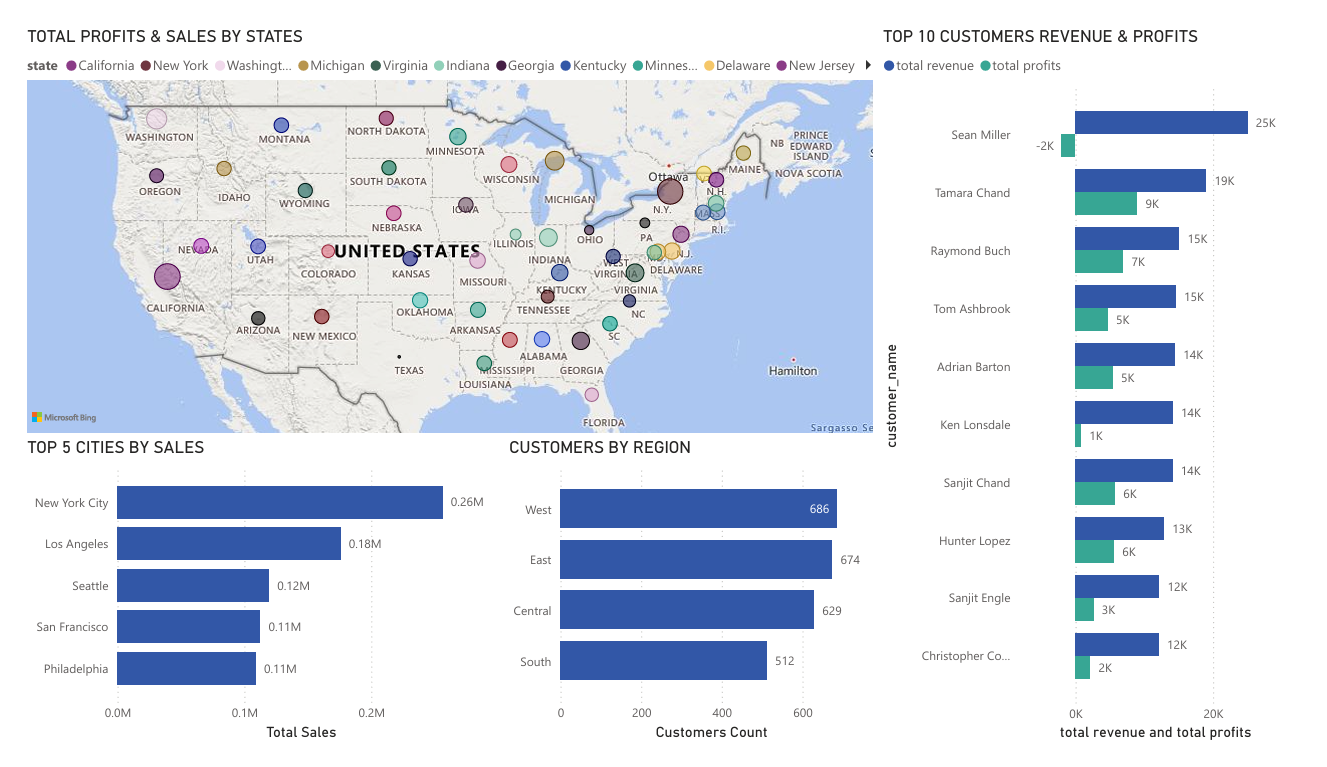

This screenshot's page, from the dashboard's own definition file:
{"tool":"powerbi","page":{"name":"Dashboard_3","canvas":[1280,720],"ordinal":2},"visuals":[{"type":"barChart","title":"TOP 5 CITIES BY SALES","fields":{"Category":["public v_city_orders_sales.city"],"Y":["Sum(public v_city_orders_sales.sales)"]},"box":[0,413.1,479.6,306.3],"z":0},{"type":"barChart","title":"CUSTOMERS BY REGION","fields":{"Category":["public v_customers_across_regions.region"],"Y":["Sum(public v_customers_across_regions.customer_count)"]},"box":[479.6,413.1,372.8,306.3],"z":1000},{"type":"clusteredBarChart","title":"TOP 10 CUSTOMERS REVENUE & PROFITS","fields":{"Category":["public v_customer_revenue_profit.customer_name"],"Y":["Sum(public v_customer_revenue_profit.revenue)","Sum(public v_customer_revenue_profit.profits)"]},"box":[852.4,3.5,427.1,715.8],"z":2000},{"type":"map","title":"TOTAL PROFITS & SALES BY STATES","fields":{"Category":["public v_underperforming_cities.state"],"Size":["Sum(public v_underperforming_cities.total_profit)"],"Series":["public v_underperforming_cities.state"]},"box":[0,3.5,852.4,409.6],"z":3000}]}

Visuals, with their boxes in screenshot pixels (x1, y1, x2, y2), scaled from the page's 1280x720 canvas onto the 1327x767 screenshot:
"TOP 5 CITIES BY SALES" barChart: x1=0 y1=440 x2=497 y2=766
"CUSTOMERS BY REGION" barChart: x1=497 y1=440 x2=884 y2=766
"TOP 10 CUSTOMERS REVENUE & PROFITS" clusteredBarChart: x1=884 y1=4 x2=1326 y2=766
"TOTAL PROFITS & SALES BY STATES" map: x1=0 y1=4 x2=884 y2=440
